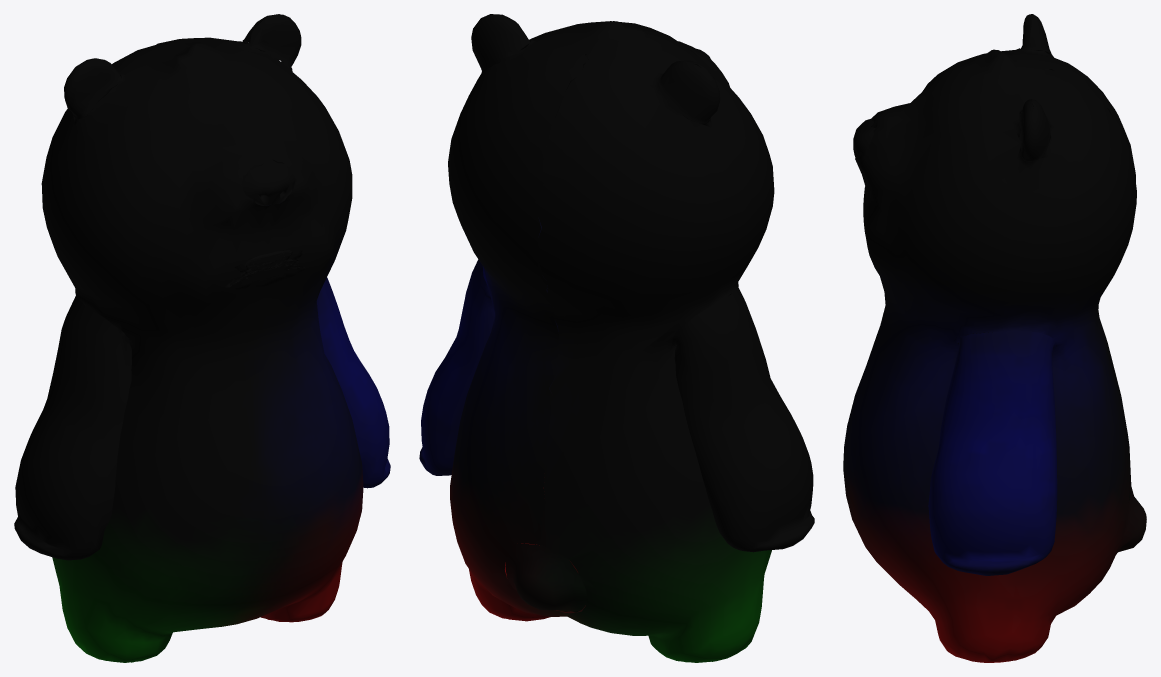
Rendered from bear_table_undercoat_v1.glb.
3 views of the same model, side by side, from view 1: azimuth 30°, elevation 25°; view 2: azimuth 150°, elevation 25°; view 3: azimuth 270°, elevation 25° (orthographic). The views are drawn at different scales.
Parts seen in each view (by area): view 1: BoundedShellGroom; view 2: BoundedShellGroom; view 3: BoundedShellGroom.
Part boxes in pixels (box(x1,y1,x2,y2)): BoundedShellGroom: box(14, 14, 390, 662); BoundedShellGroom: box(419, 14, 814, 662); BoundedShellGroom: box(843, 14, 1146, 662).
Size of the model in its own units: 1.59 by 2.44 by 1.21.
1 material, 1 textured.
